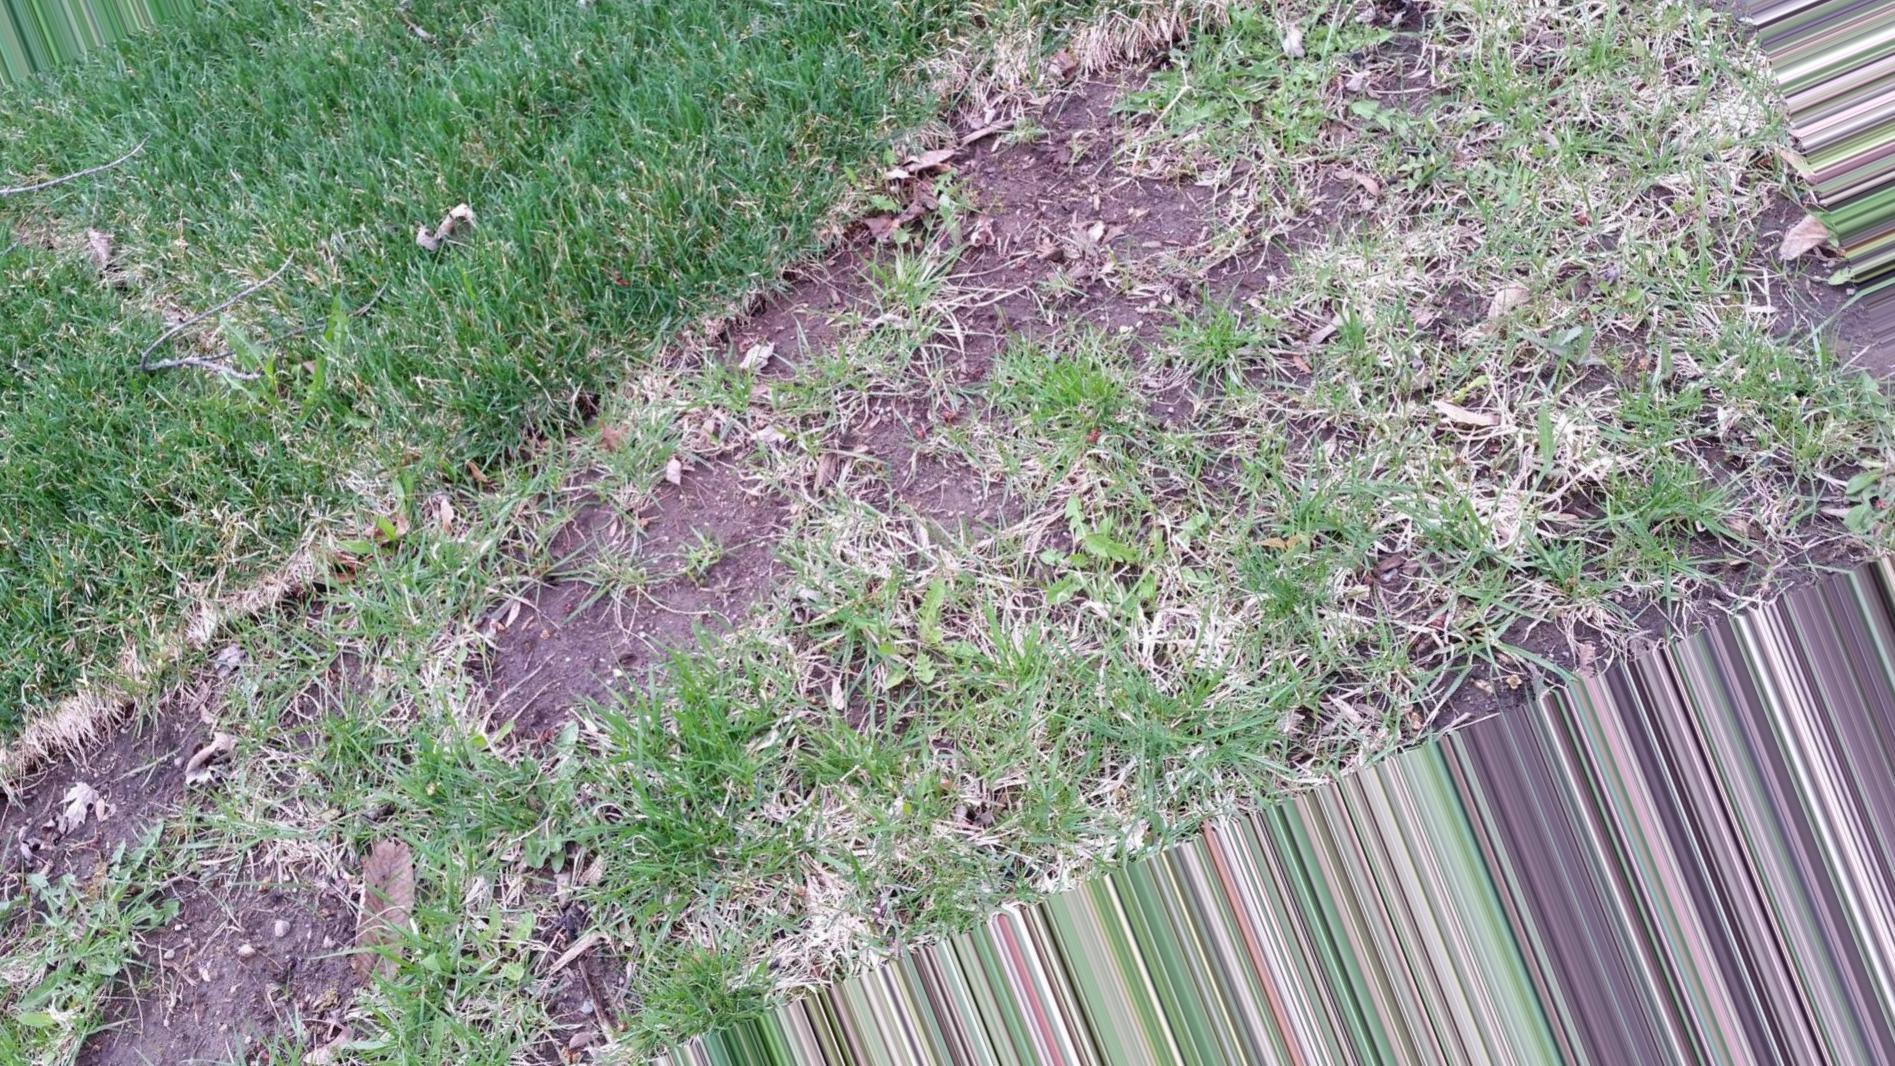patch: (523, 439, 786, 715), (72, 735, 285, 1063), (1316, 505, 1524, 679), (866, 389, 1072, 564), (1026, 131, 1227, 305), (1585, 409, 1730, 616), (777, 217, 907, 381), (1711, 223, 1849, 371), (501, 871, 610, 1054), (1334, 55, 1460, 124), (1259, 178, 1346, 234), (307, 924, 349, 1011)
